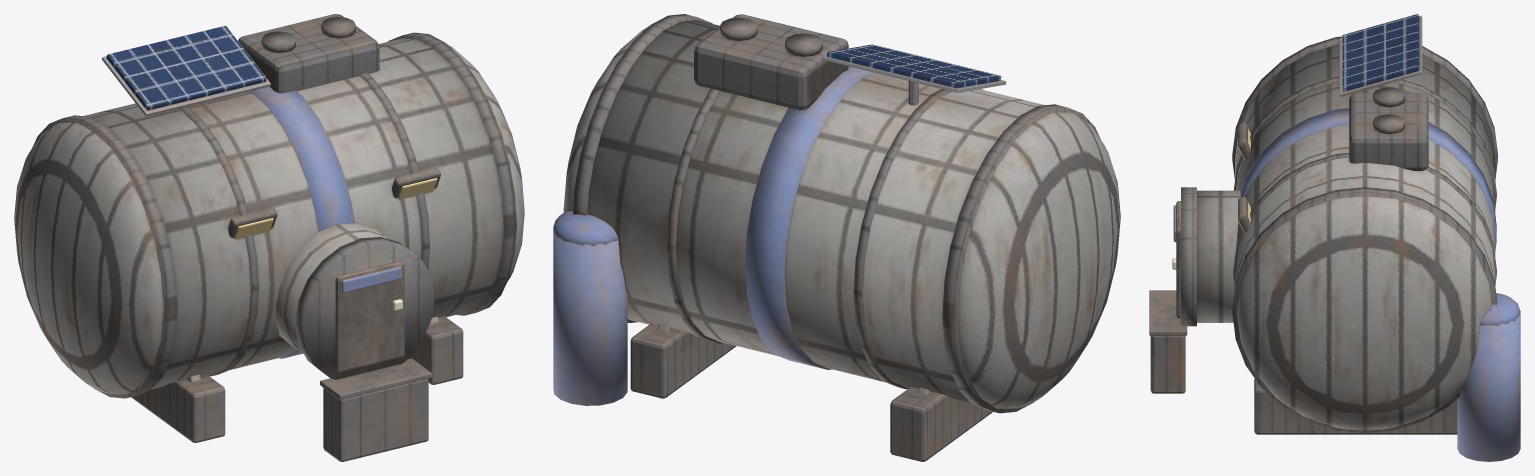
The model's file is house_4.glb.
3 views of the same model, side by side, from view 1: azimuth 30°, elevation 25°; view 2: azimuth 150°, elevation 25°; view 3: azimuth 270°, elevation 25° (orthographic). The views are drawn at different scales.
Visible parts, largest first — view 1: house_4; view 2: house_4; view 3: house_4.
Boxes of the visible parts, x1,y1,x2,y2 form: house_4: (14, 14, 524, 461); house_4: (553, 14, 1120, 461); house_4: (1149, 14, 1520, 461).
Size of the model in its own units: 2.92 by 2.1 by 2.34.
Materials: 1 (1 with a texture image).
